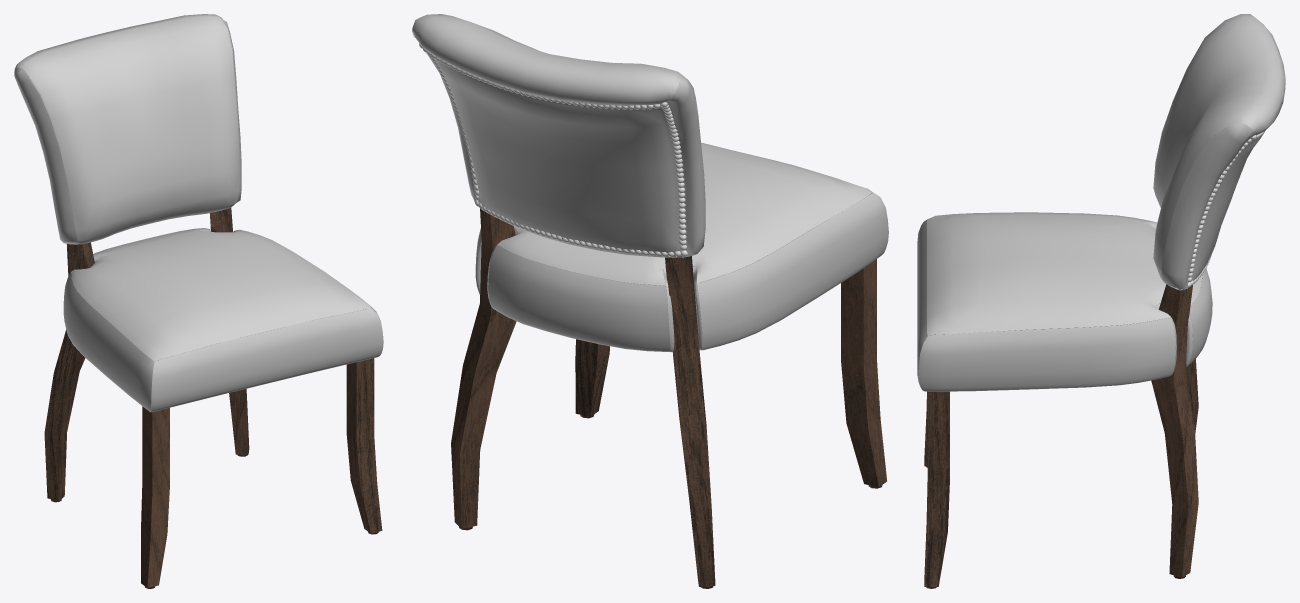
Rendered from Home_Concept_Mimi_Dining_Chair_Weathered_Oak__vray.fbx.
3 views of the same model, side by side, from view 1: azimuth 30°, elevation 25°; view 2: azimuth 150°, elevation 25°; view 3: azimuth 270°, elevation 25° (orthographic). The views are drawn at different scales.
Parts seen in each view (by area): view 1: Home-Concept_Mimi-Dining-Chair_Velvet-2, Home-Concept_Mimi-Dining-Chair_Velvet-1; view 2: Home-Concept_Mimi-Dining-Chair_Velvet-2, Home-Concept_Mimi-Dining-Chair_Velvet-1; view 3: Home-Concept_Mimi-Dining-Chair_Velvet-2, Home-Concept_Mimi-Dining-Chair_Velvet-1.
Boxes of the visible parts, <box> form: Home-Concept_Mimi-Dining-Chair_Velvet-2: <box>14,14,383,412</box>; Home-Concept_Mimi-Dining-Chair_Velvet-1: <box>44,208,382,588</box>; Home-Concept_Mimi-Dining-Chair_Velvet-2: <box>412,14,888,352</box>; Home-Concept_Mimi-Dining-Chair_Velvet-1: <box>451,208,886,588</box>; Home-Concept_Mimi-Dining-Chair_Velvet-2: <box>917,14,1285,391</box>; Home-Concept_Mimi-Dining-Chair_Velvet-1: <box>924,284,1198,588</box>.
Bounding box in the file's own units: 94.39 × 161 × 116.
